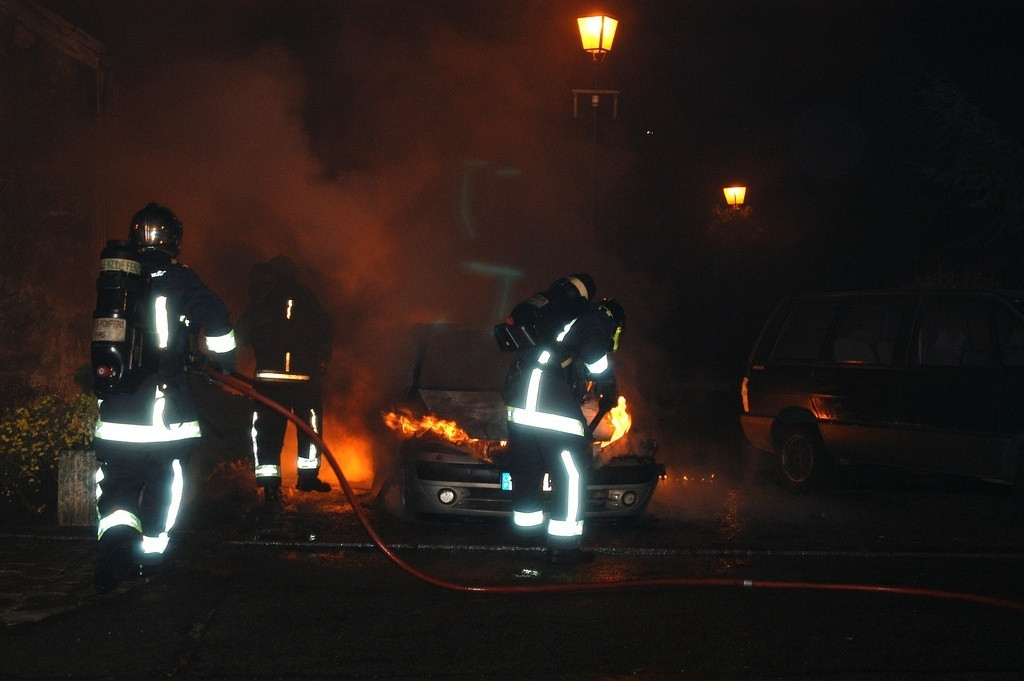fire: (384, 406, 497, 451)
